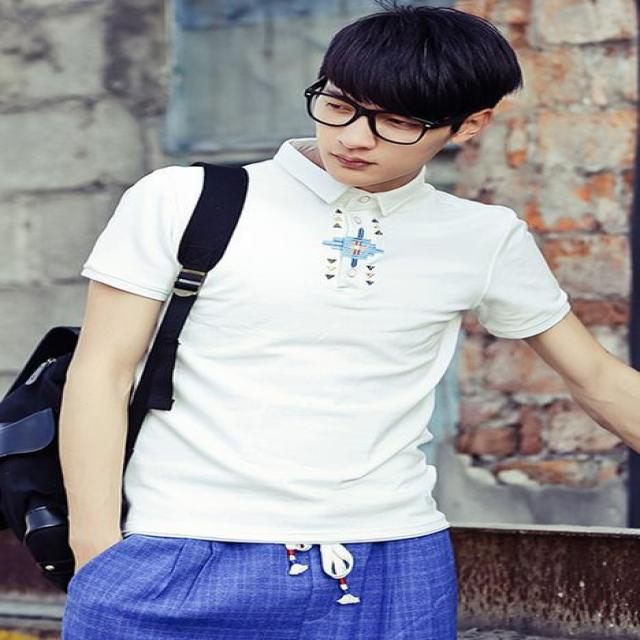short sleeve top: (83, 145, 572, 542)
trousers: (63, 508, 457, 639)
